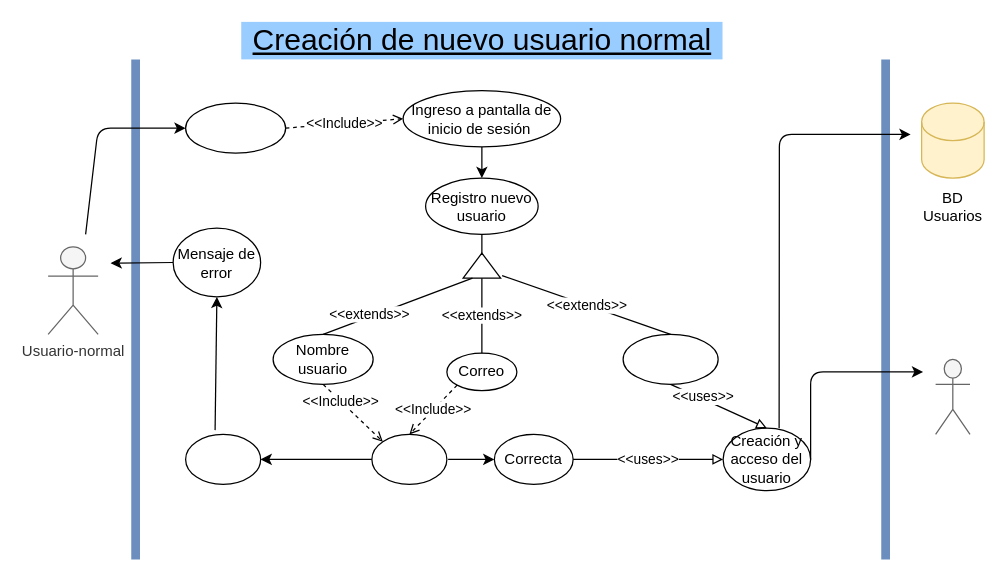
Some shapes in this 1006 by 586 pixel diagram are drawn without their labels. The box of each missing label's shape, as (x1, y1, x2, y2) in pixels:
Acceso a la aplicación: (184, 102, 286, 153)
Invalido: (184, 433, 261, 484)
Nombre apellido: (622, 333, 718, 384)
Sistema: (934, 358, 970, 434)
validación: (371, 433, 447, 484)
